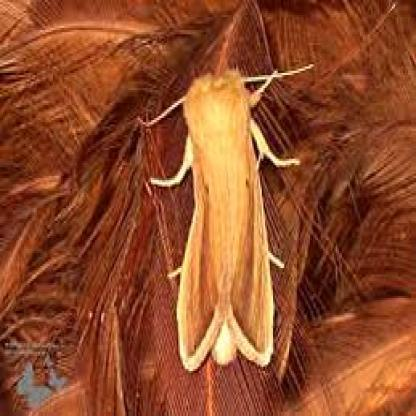stem-borer: (168, 62, 279, 374)
